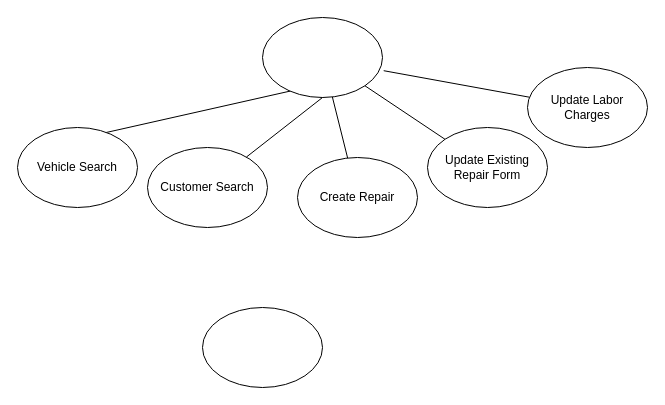
Image size: 665x405. Some labels were removed from this diagram. The centre of each missing label's shape, as x and y in pixels:
"Create or Update a Repair" belongs at pixel 322 57.
"Sales Order" belongs at pixel 262 347.
